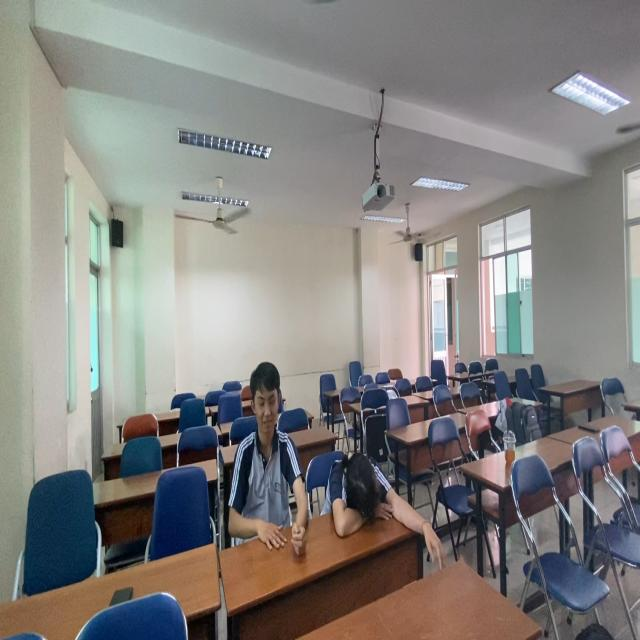sleep: (323, 438, 427, 536)
